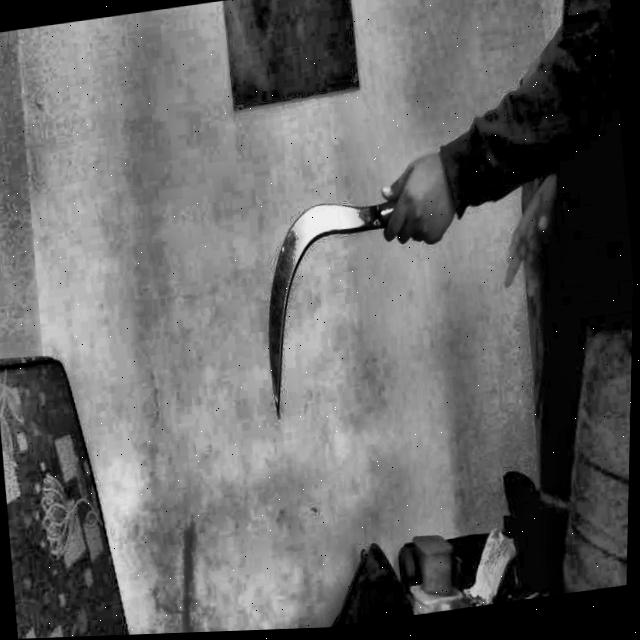celurit: (235, 134, 475, 437)
